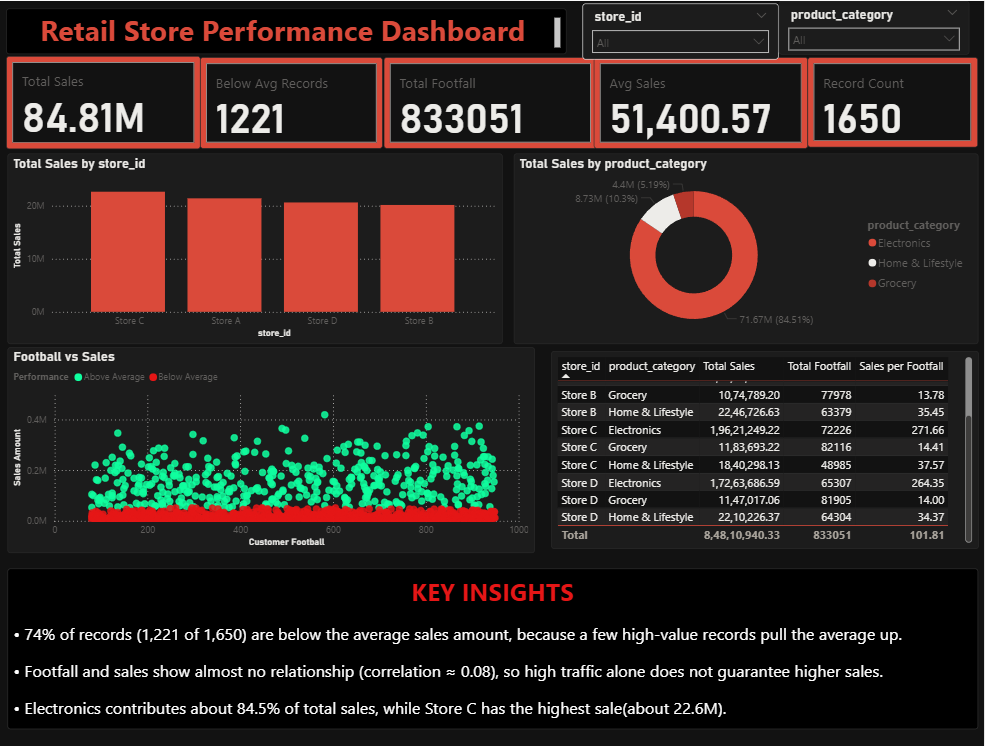

The dashboard page shown, as its layout file describes it:
{"tool":"powerbi","page":{"name":"Page 1","canvas":[1300,980],"ordinal":0},"visuals":[{"type":"cardVisual","fields":{"Data":["retail.Total Sales"]},"box":[15,72.5,255,122.5],"z":0},{"type":"cardVisual","fields":{"Data":["retail.Below Avg Records"]},"box":[270,73.8,240,120],"z":1000},{"type":"cardVisual","fields":{"Data":["retail.Total Footfall"]},"box":[510,73.8,280,120],"z":2000},{"type":"cardVisual","fields":{"Data":["retail.Avg Sales"]},"box":[786.2,73.8,281.2,120],"z":3000},{"type":"cardVisual","fields":{"Data":["retail.Record Count"]},"box":[1067.5,73.8,223.8,118.8],"z":4000},{"type":"clusteredColumnChart","fields":{"Category":["retail.store_id"],"Y":["retail.Total Sales"]},"box":[16.2,200,650,250],"z":5000},{"type":"donutChart","fields":{"Category":["retail.product_category"],"Y":["retail.Total Sales"]},"box":[681.2,200,610,250],"z":6000},{"type":"scatterChart","title":"Football vs Sales","fields":{"X":["Sum(retail.customer_footfall)"],"Y":["Sum(retail.sales_amount)"],"Category":["retail.record_id"],"Series":["retail.Performance"]},"box":[16.2,455,692.5,270],"z":7000},{"type":"tableEx","fields":{"Values":["retail.store_id","retail.product_category","retail.Total Sales","retail.Total Footfall","retail.Sales per Footfall"]},"box":[730,460,561.2,260],"z":8000},{"type":"slicer","fields":{"Values":["retail.store_id"]},"box":[772.5,2.5,257.5,73.8],"z":8001},{"type":"slicer","fields":{"Values":["retail.product_category"]},"box":[1030,0,250,70],"z":8002},{"type":"textbox","box":[15,10,736.2,60],"z":8003},{"type":"textbox","box":[16.2,745,1275,211.2],"z":8004}]}

Visuals, with their boxes in screenshot pixels (x1, y1, x2, y2), scaled from the page's 1300x980 canvas onto the 985x746 screenshot:
cardVisual - retail.Total Sales: [11,55,205,148]
cardVisual - retail.Below Avg Records: [205,56,386,148]
cardVisual - retail.Total Footfall: [386,56,599,148]
cardVisual - retail.Avg Sales: [596,56,809,148]
cardVisual - retail.Record Count: [809,56,978,147]
clusteredColumnChart - retail.store_id x retail.Total Sales: [12,152,505,343]
donutChart - retail.product_category x retail.Total Sales: [516,152,978,343]
"Football vs Sales" scatterChart: [12,346,537,552]
tableEx - retail.store_id x retail.product_category: [553,350,978,548]
slicer - retail.store_id: [585,2,780,58]
slicer - retail.product_category: [780,0,970,53]
textbox: [11,8,569,53]
textbox: [12,567,978,728]
